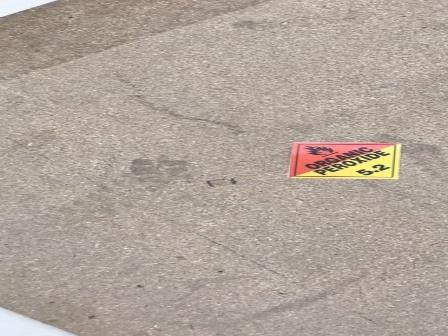organic-peroxide: (285, 141, 405, 180)
